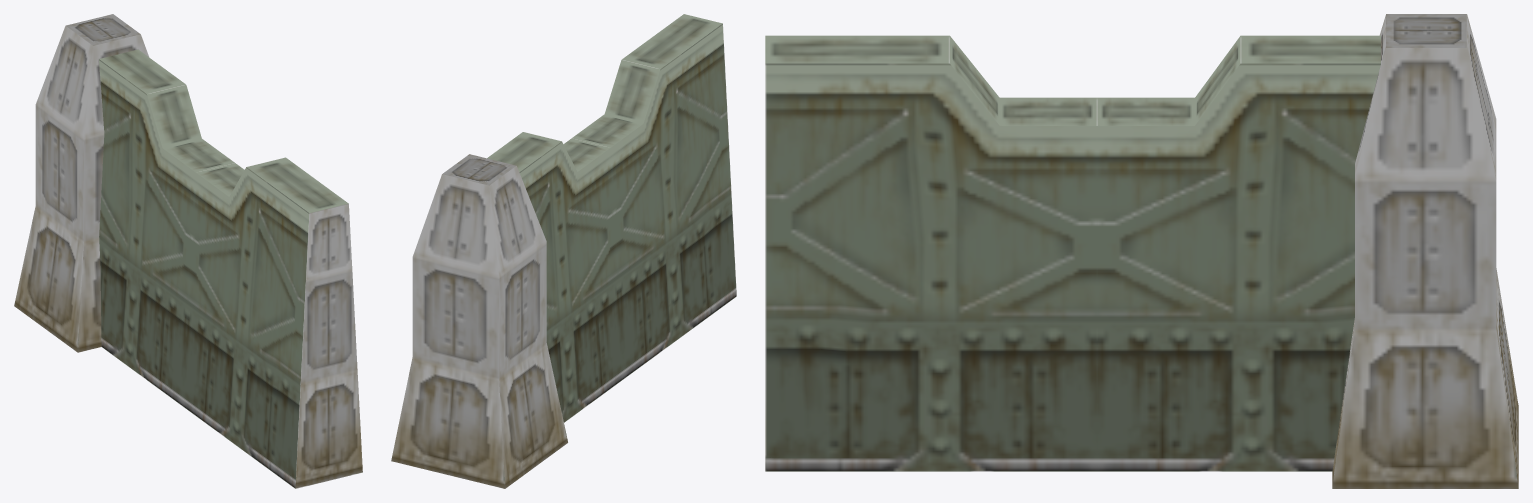
The model's file is l_heavywall.glb.
3 views of the same model, side by side, from view 1: azimuth 30°, elevation 25°; view 2: azimuth 150°, elevation 25°; view 3: azimuth 270°, elevation 25° (orthographic). The views are drawn at different scales.
Visible parts, largest first — view 1: L_HeavyWall; view 2: L_HeavyWall; view 3: L_HeavyWall.
Boxes of the visible parts, x1,y1,x2,y2 form: L_HeavyWall: (14,14,362,488); L_HeavyWall: (391,14,736,488); L_HeavyWall: (765,14,1518,488).
Bounding box in the file's own units: 7.52 × 17.81 × 29.17.
Materials: 1 (1 with a texture image).
